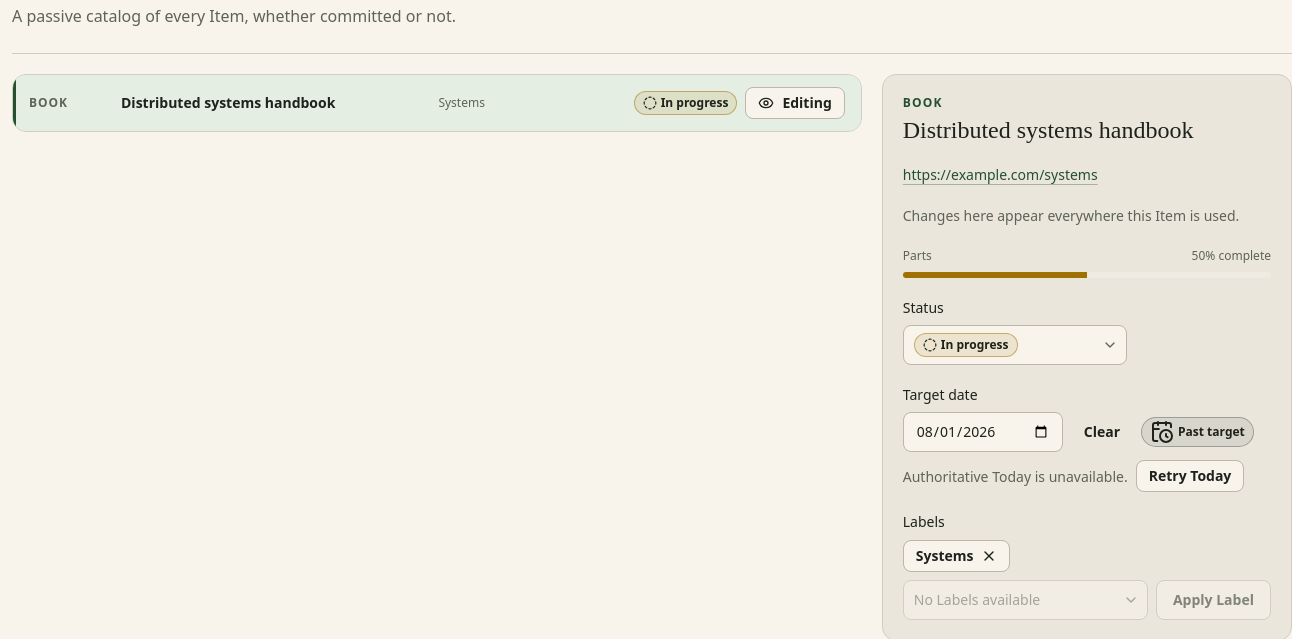
Test: Library room › uses Library as the context for another Item opened from a cold detail URL
This screenshot has width=1292, height=639.
Click the link "Distributed systems handbook" at (228, 103), box [121, 93, 335, 112]
(page scrolled)
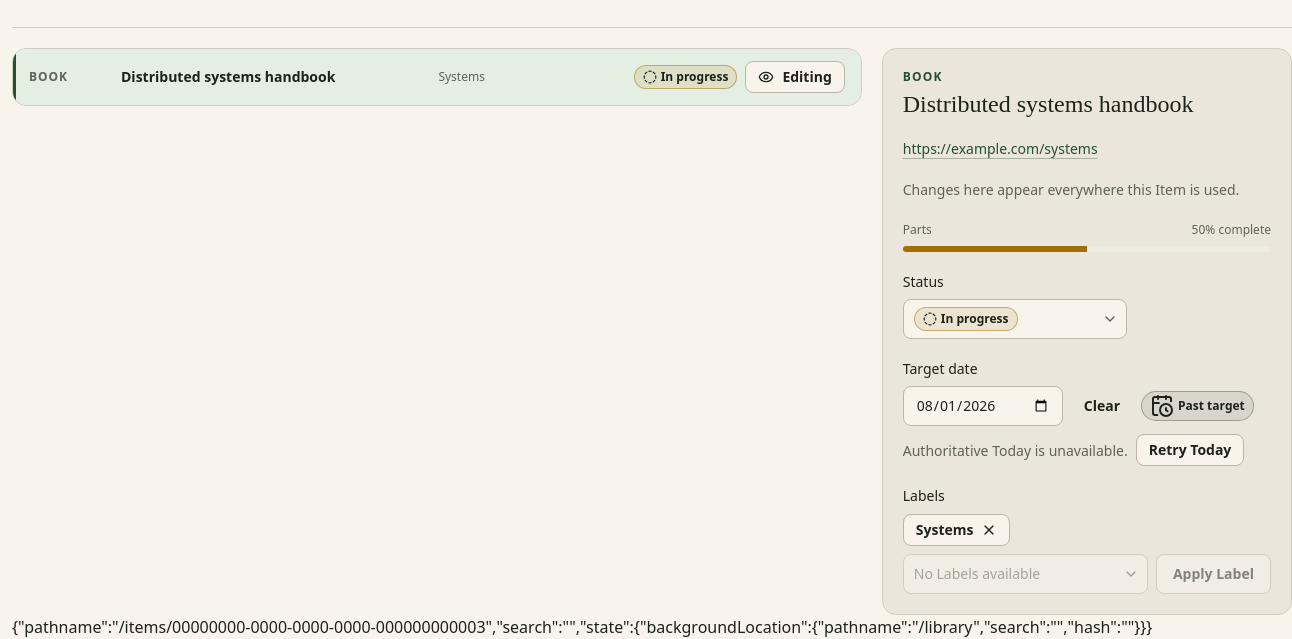
Expected: the text named "Test location" shows "\"pathname\":\"/library\",\"search\":\"\",\"hash\":\"\"", [12, 616, 1152, 638]
